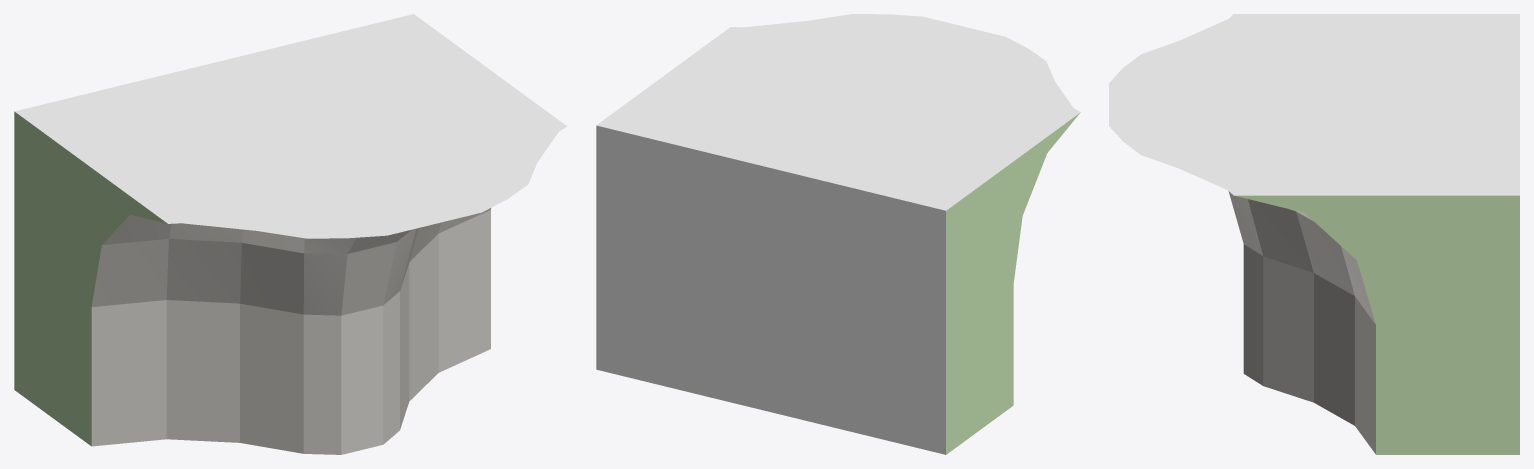
The model's file is Wall_Straight_Deformed_Convex_3x3_Top.glb.
3 renders of one model, left to right at view 1: azimuth 30°, elevation 25°; view 2: azimuth 150°, elevation 25°; view 3: azimuth 270°, elevation 25°, orthographic. The views are drawn at different scales.
Visible parts, largest first — view 1: Wall_Straight_Deformed_Convex_3x3_Top; view 2: Wall_Straight_Deformed_Convex_3x3_Top; view 3: Wall_Straight_Deformed_Convex_3x3_Top.
Boxes of the visible parts, x1,y1,x2,y2 form: Wall_Straight_Deformed_Convex_3x3_Top: [14, 14, 567, 454]; Wall_Straight_Deformed_Convex_3x3_Top: [596, 14, 1080, 454]; Wall_Straight_Deformed_Convex_3x3_Top: [1109, 14, 1519, 454].
Size of the model in its own units: 300 by 200 by 287.
